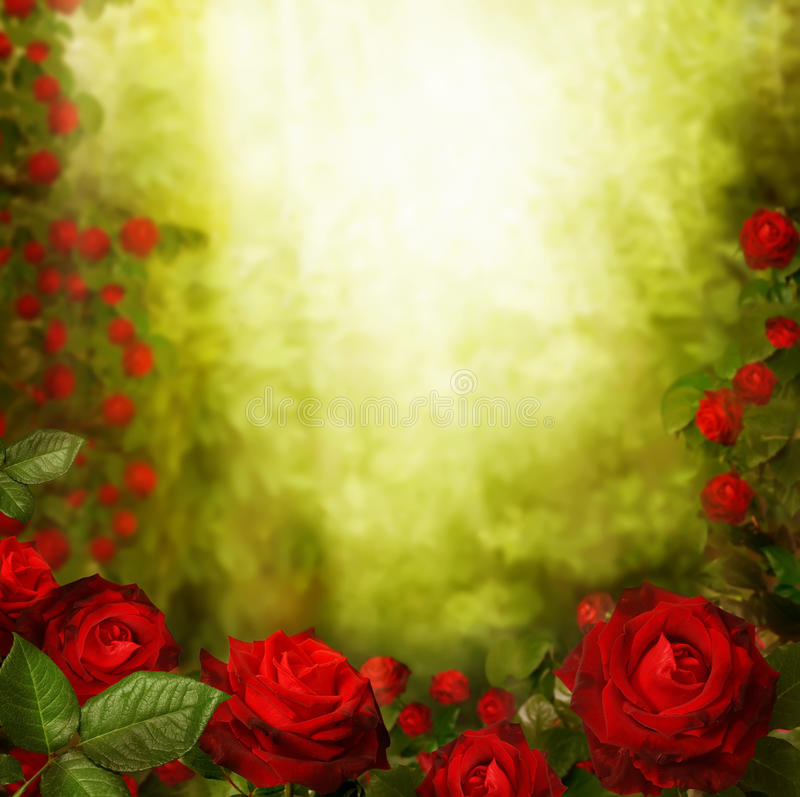RedRose: (537, 592, 771, 786), (199, 613, 397, 781), (48, 574, 187, 706), (417, 732, 567, 790), (0, 528, 60, 654), (728, 201, 797, 283), (699, 466, 756, 524), (683, 388, 740, 445), (473, 681, 523, 728), (572, 589, 619, 637), (736, 360, 776, 409), (429, 658, 469, 705), (760, 308, 800, 353), (360, 656, 405, 696), (389, 700, 429, 738)
